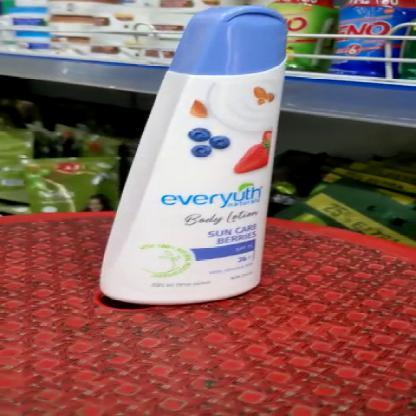Everyuth Naturals Body Lotion Sun Care Berries SPF 15 200ml: (92, 6, 285, 306)
